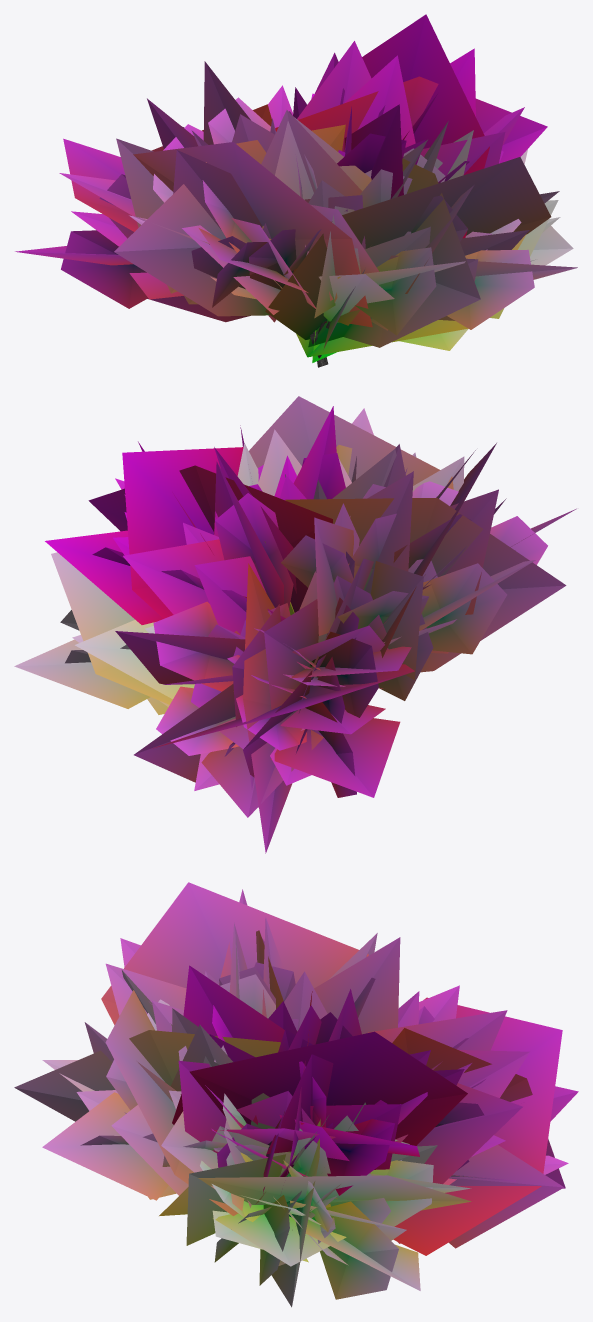
File: filber_tree_4.FBX
3 views of the same model, one above another, from view 1: azimuth 30°, elevation 25°; view 2: azimuth 150°, elevation 25°; view 3: azimuth 270°, elevation 25° (orthographic).
Parts seen in each view (by area): view 1: filbert_leaves_lod_0, filbert_leaves_shadow; view 2: filbert_leaves_lod_0, filbert_leaves_shadow; view 3: filbert_leaves_lod_0, filbert_leaves_shadow.
Part boxes in pixels (left/top/right/bottom): filbert_leaves_lod_0: left=15, top=41, right=577, bottom=350; filbert_leaves_shadow: left=63, top=14, right=573, bottom=362; filbert_leaves_lod_0: left=14, top=406, right=576, bottom=817; filbert_leaves_shadow: left=51, top=396, right=566, bottom=853; filbert_leaves_lod_0: left=42, top=889, right=578, bottom=1299; filbert_leaves_shadow: left=14, top=882, right=565, bottom=1307.
Size of what is drawn, in the model's own units: 4.72 by 2.73 by 4.81.
